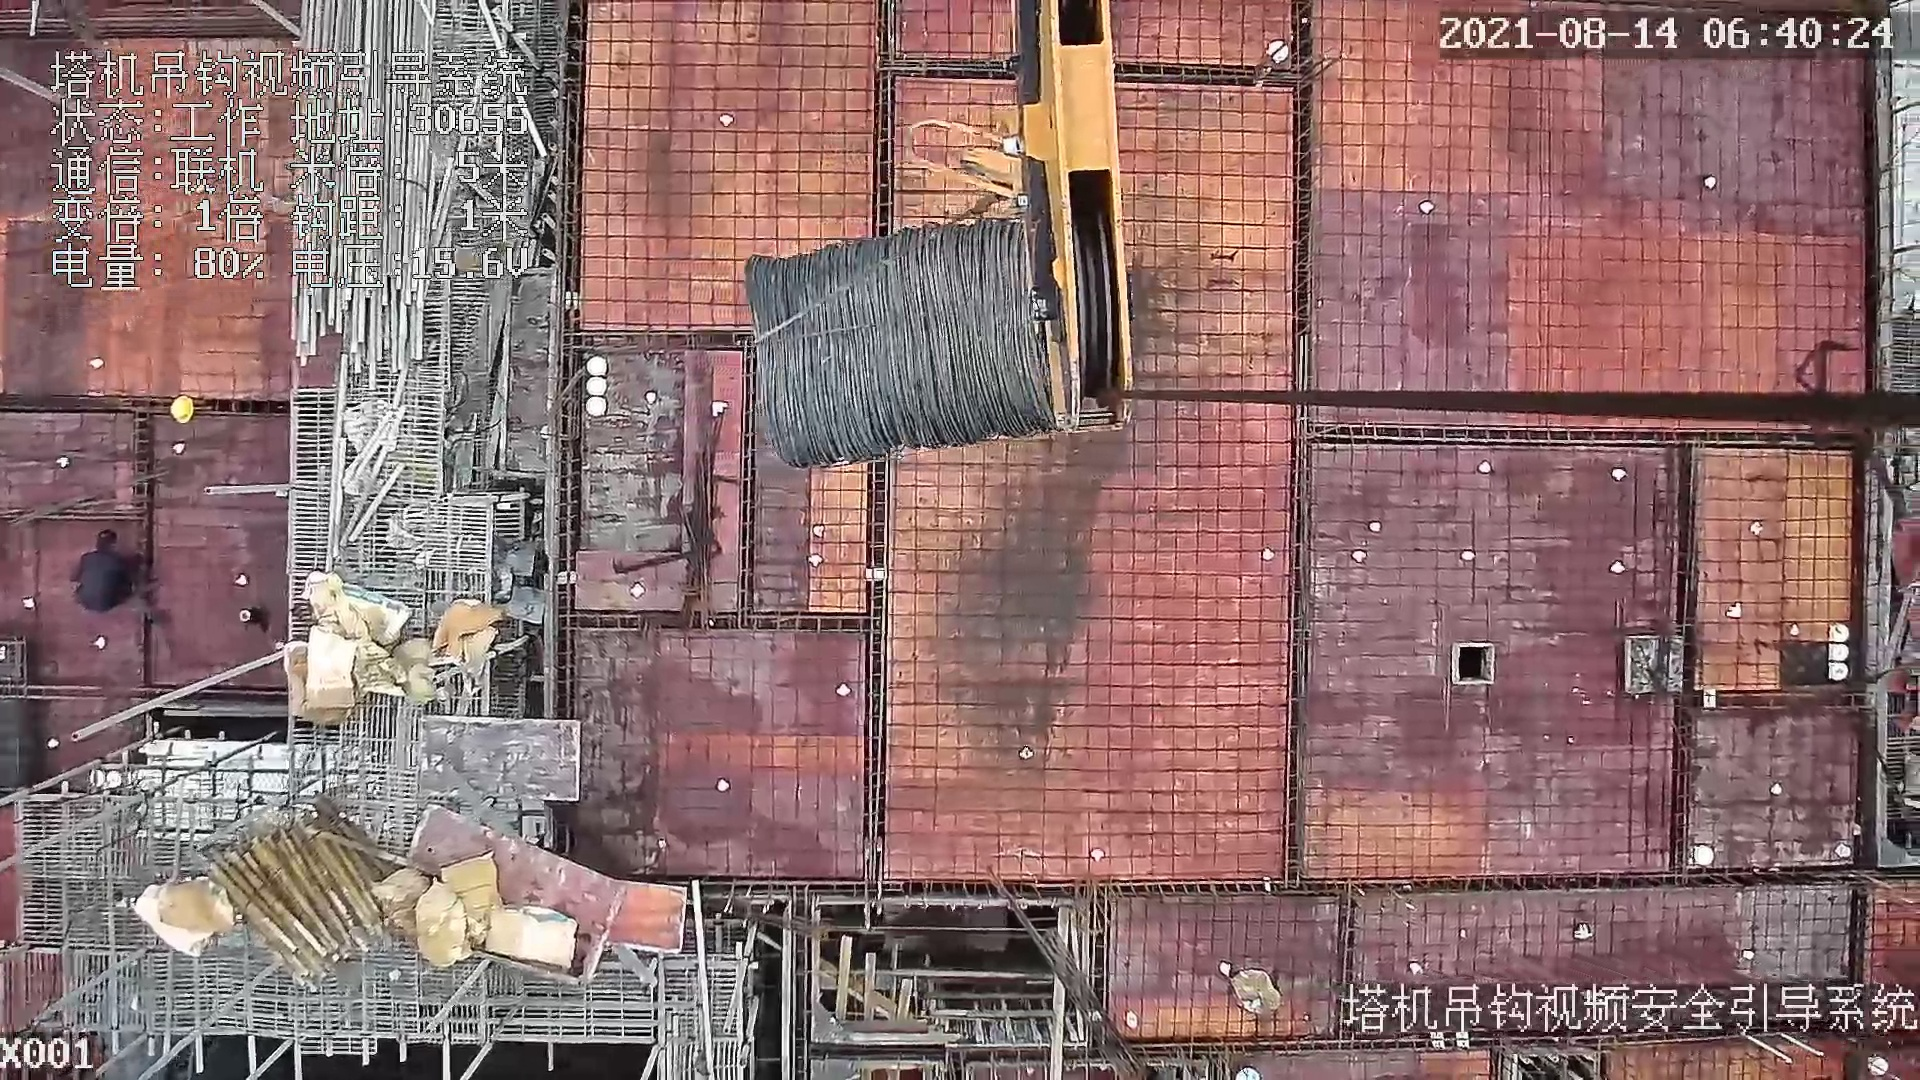helmet: (169, 393, 193, 426)
hook: (903, 1, 1140, 433)
person: (63, 530, 146, 613)
scaffold: (199, 805, 382, 972)
